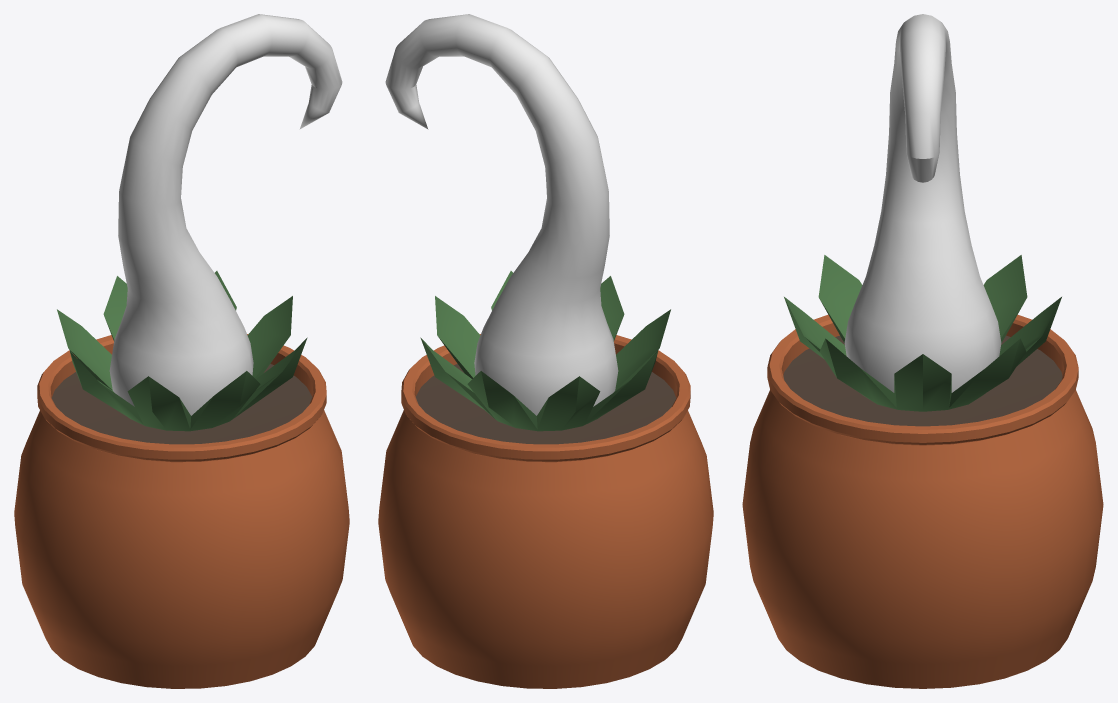
The model's file is Wyrmstail.fbx.
3 views of the same model, side by side, from view 1: azimuth 30°, elevation 25°; view 2: azimuth 150°, elevation 25°; view 3: azimuth 270°, elevation 25° (orthographic). The views are drawn at different scales.
Parts seen in each view (by area): view 1: Pot, Wyrmtail; view 2: Pot, Wyrmtail; view 3: Pot, Wyrmtail.
Boxes of the visible parts, left/top/right/bottom form: Pot: left=14, top=334, right=349, bottom=688; Wyrmtail: left=57, top=14, right=342, bottom=431; Pot: left=378, top=334, right=713, bottom=688; Wyrmtail: left=385, top=14, right=670, bottom=431; Pot: left=742, top=315, right=1103, bottom=688; Wyrmtail: left=784, top=14, right=1061, bottom=411.
Bounding box in the file's own units: 143 × 268 × 137.
